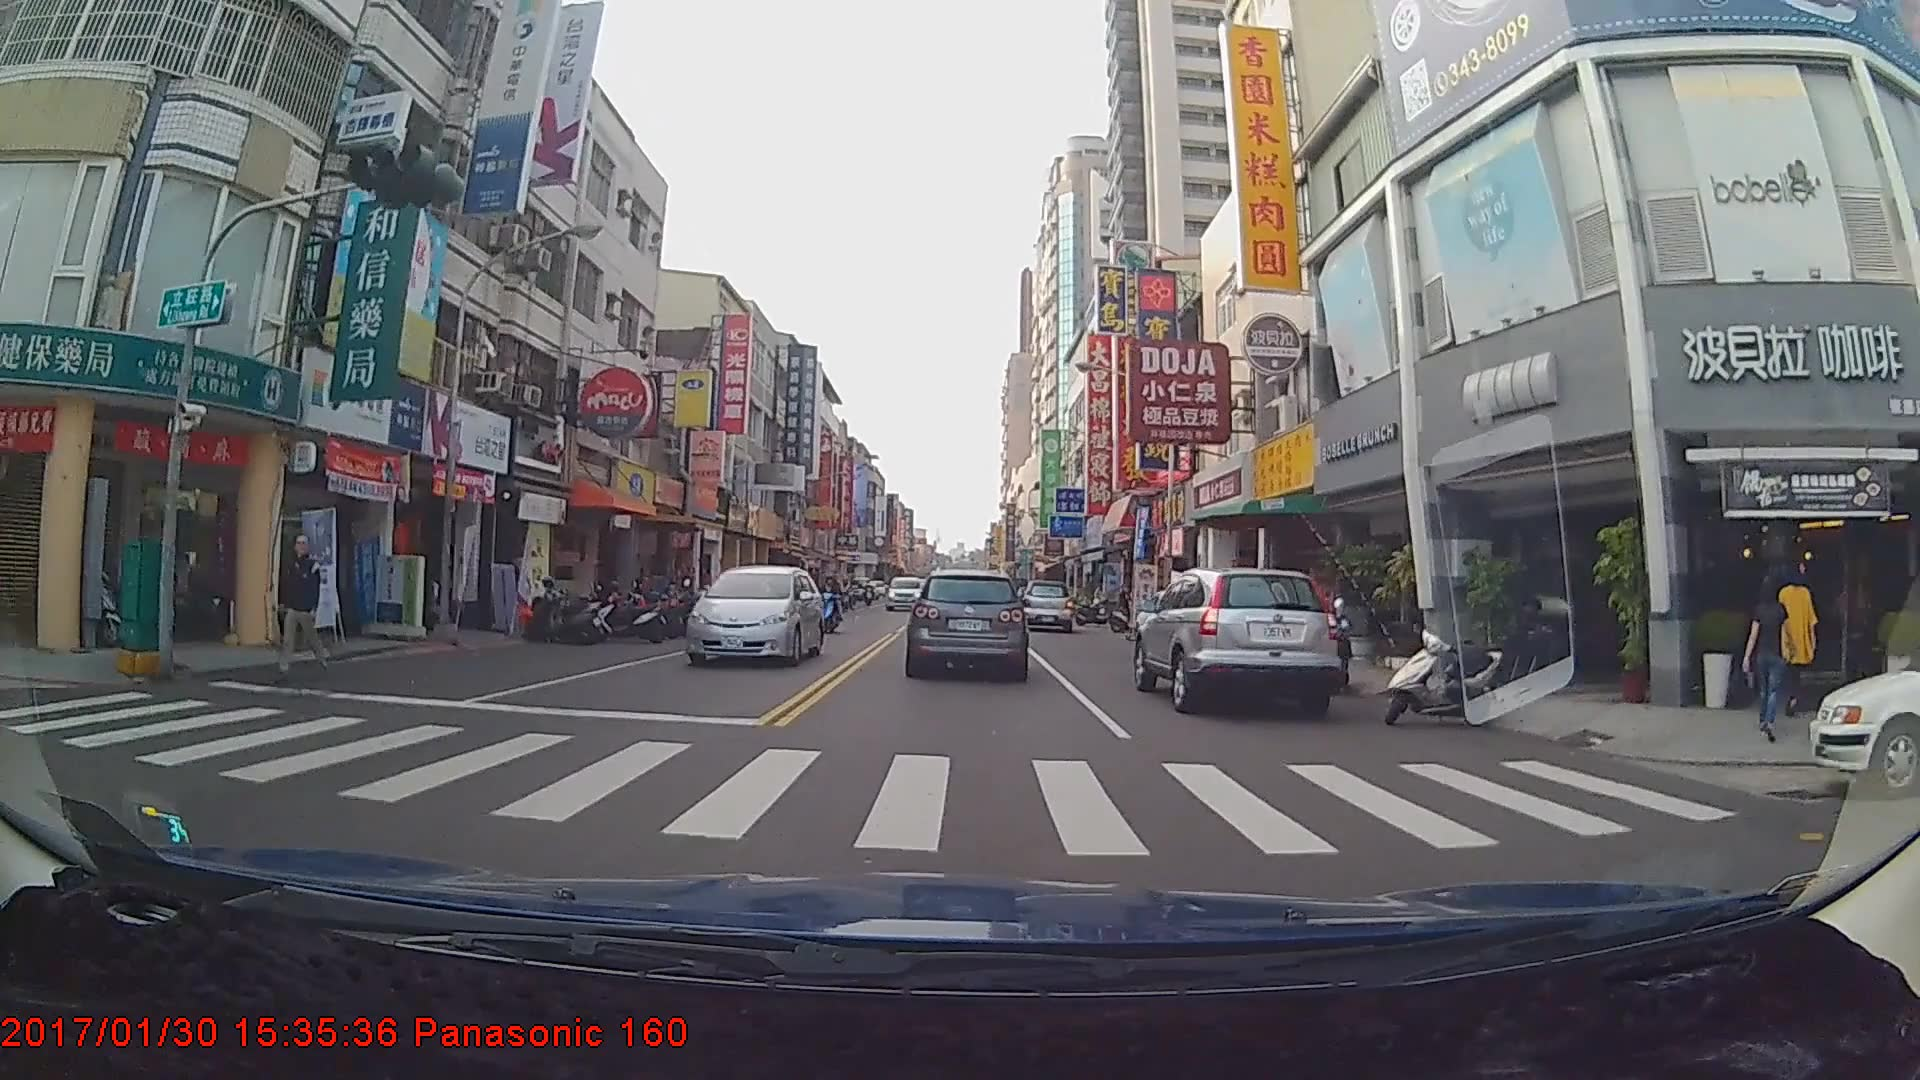pedestrian: (1743, 574, 1795, 743), (273, 534, 331, 681), (1775, 567, 1824, 716)
vehicle: (1132, 564, 1341, 714), (1806, 611, 1920, 801), (686, 562, 825, 668), (908, 568, 1026, 675), (1017, 579, 1072, 631), (883, 574, 925, 612)
